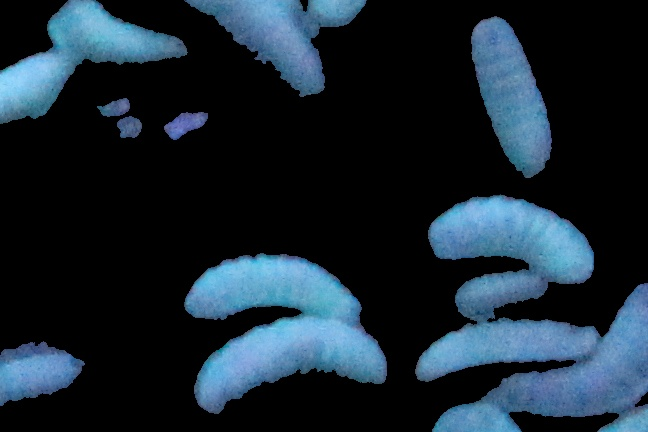larvae: (491, 278, 648, 414), (191, 321, 394, 424), (422, 196, 605, 283), (465, 17, 553, 174), (179, 248, 367, 321), (187, 1, 323, 99), (411, 316, 597, 384), (46, 1, 187, 75), (1, 345, 97, 410), (1, 56, 71, 134), (449, 270, 550, 315)
